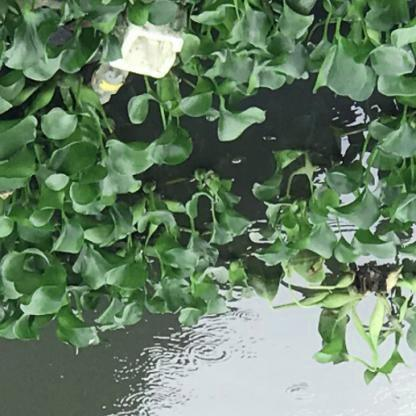Plastic: (90, 59, 129, 107)
Trash: (99, 14, 185, 82)
